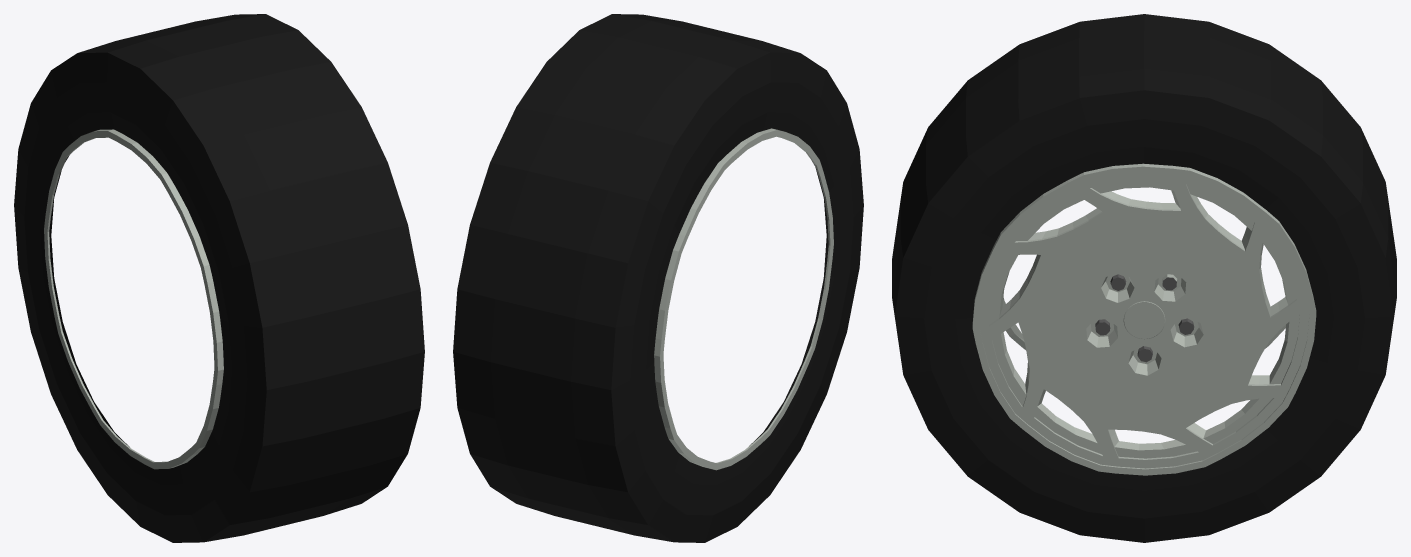
Rendered from rx-7-roda.glb.
The picture shows the model from 3 angles, left to right: view 1: azimuth 30°, elevation 25°; view 2: azimuth 150°, elevation 25°; view 3: azimuth 270°, elevation 25°; orthographic projection.
Parts seen in each view (by area): view 1: FL_WHEEL; view 2: FL_WHEEL; view 3: FL_WHEEL.
Boxes of the visible parts, x1,y1,x2,y2 form: FL_WHEEL: (14, 14, 424, 542); FL_WHEEL: (453, 14, 863, 542); FL_WHEEL: (892, 14, 1396, 542).
Bounding box in the file's own units: 0.3287 × 0.8218 × 0.8218.
2 materials, 1 textured.
